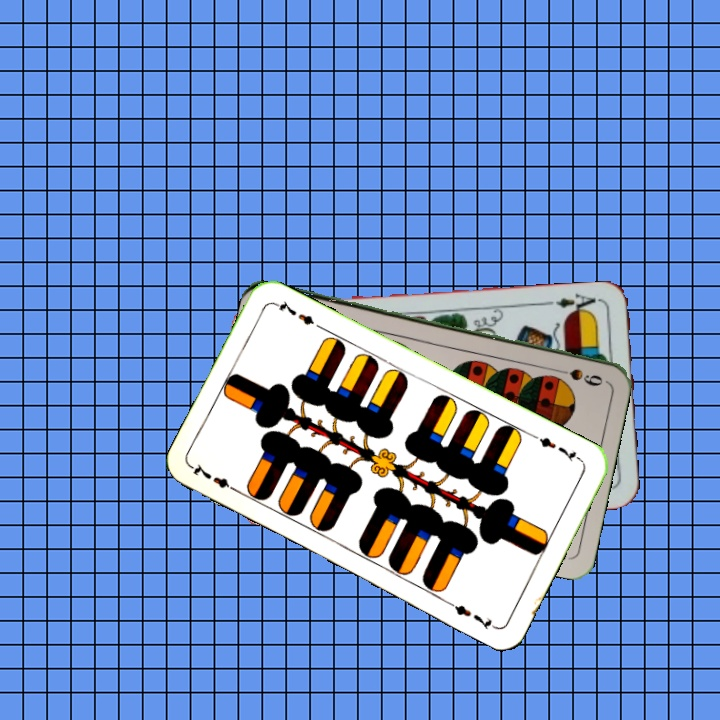E7: (188, 460, 242, 496), (529, 431, 584, 465)
EA: (545, 289, 604, 317)
S9: (548, 363, 606, 387)
